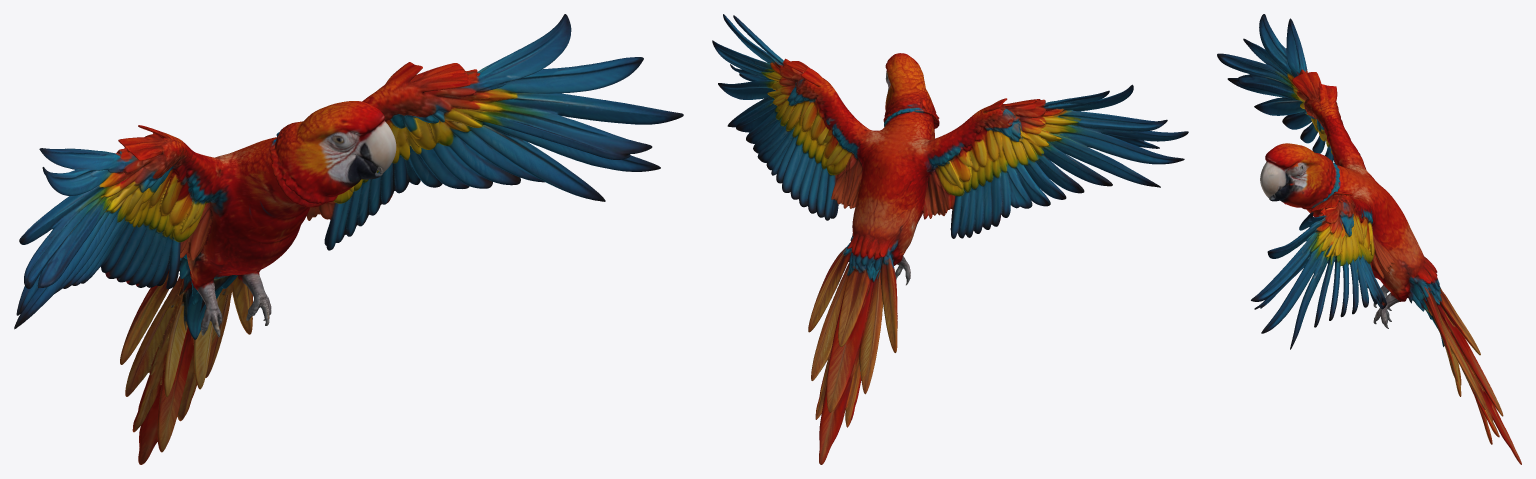
File: nm__scarletmacaw.glb
3 views of the same model, side by side, from view 1: azimuth 30°, elevation 25°; view 2: azimuth 150°, elevation 25°; view 3: azimuth 270°, elevation 25° (orthographic). The views are drawn at different scales.
Parts seen in each view (by area): view 1: tripo_node_73e756b8-46e1-4038-8047-d57e151ef6f3_0; view 2: tripo_node_73e756b8-46e1-4038-8047-d57e151ef6f3_0; view 3: tripo_node_73e756b8-46e1-4038-8047-d57e151ef6f3_0.
Part boxes in pixels (x1,y1,x2,y2): tripo_node_73e756b8-46e1-4038-8047-d57e151ef6f3_0: [14, 14, 683, 464]; tripo_node_73e756b8-46e1-4038-8047-d57e151ef6f3_0: [712, 14, 1188, 464]; tripo_node_73e756b8-46e1-4038-8047-d57e151ef6f3_0: [1217, 14, 1521, 464].
Size of the model in its own units: 1 by 0.699 by 0.5447.
1 material, 1 textured.
